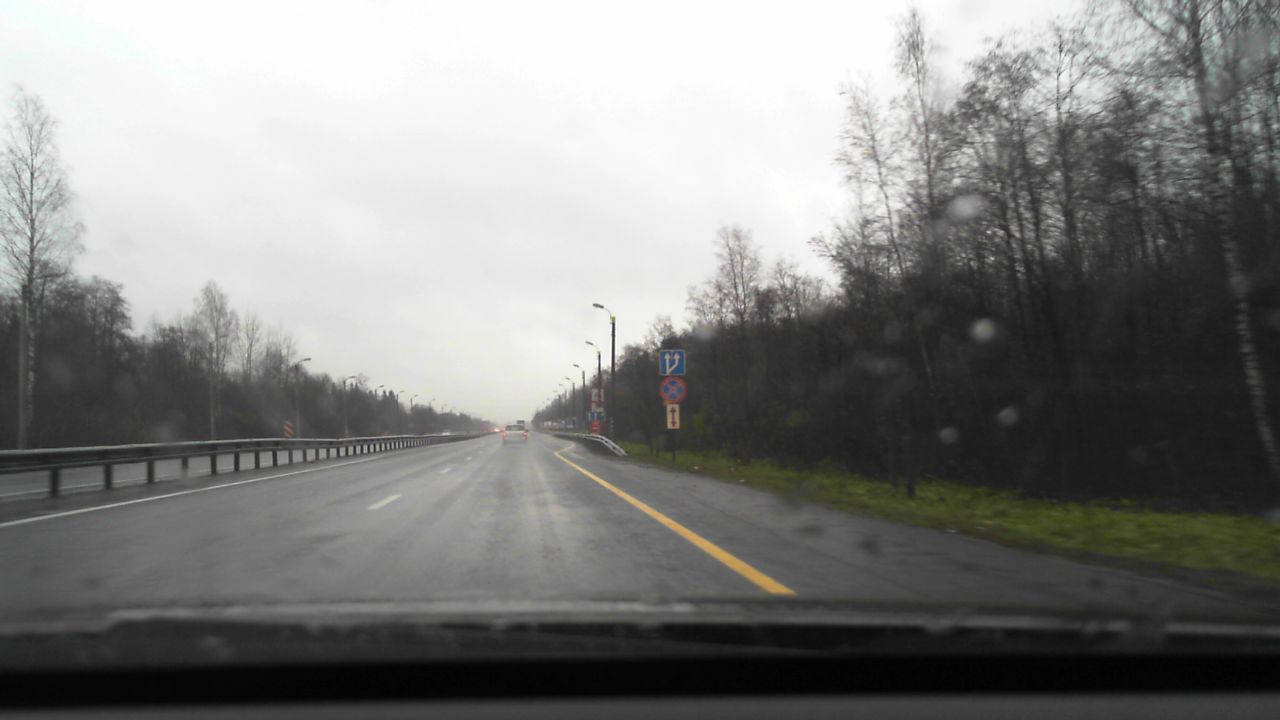No Parking: (658, 378, 686, 402)
